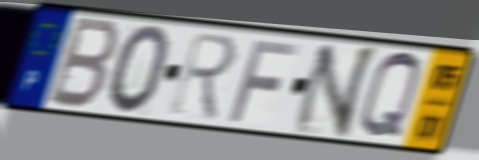B: (43, 13, 125, 113)
F: (225, 36, 303, 125)
N: (287, 44, 382, 140)
O: (104, 22, 172, 117)
Q: (356, 48, 424, 143)
R: (166, 29, 241, 125)
